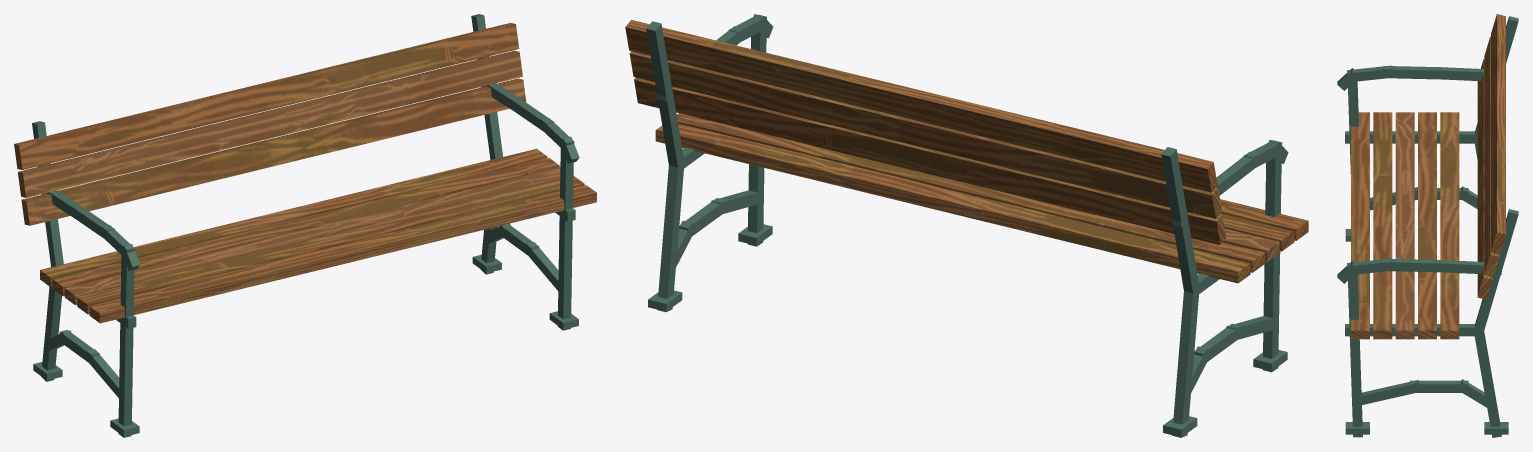
Rendered from park_bench.gltf.
3 renders of one model, left to right at view 1: azimuth 30°, elevation 25°; view 2: azimuth 150°, elevation 25°; view 3: azimuth 270°, elevation 25°, orthographic. The views are drawn at different scales.
Visible parts, largest first — view 1: ParkBenchBenchWood, ParkBenchLampMetal; view 2: ParkBenchBenchWood, ParkBenchLampMetal; view 3: ParkBenchBenchWood, ParkBenchLampMetal.
Part boxes in pixels (x1=…): ParkBenchBenchWood: x1=14, y1=23, x2=596, y2=323; ParkBenchLampMetal: x1=32, y1=14, x2=579, y2=437; ParkBenchBenchWood: x1=625, y1=20, x2=1308, y2=283; ParkBenchLampMetal: x1=646, y1=14, x2=1288, y2=437; ParkBenchBenchWood: x1=1351, y1=14, x2=1505, y2=339; ParkBenchLampMetal: x1=1337, y1=16, x2=1518, y2=437.
Size of what is drawn, in the model's own units: 1.9 by 0.9163 by 0.6667.
2 materials, 1 textured.
